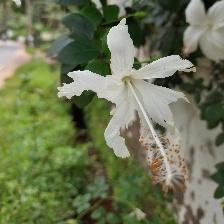hibiscus: (61, 19, 200, 195), (180, 1, 224, 60)
